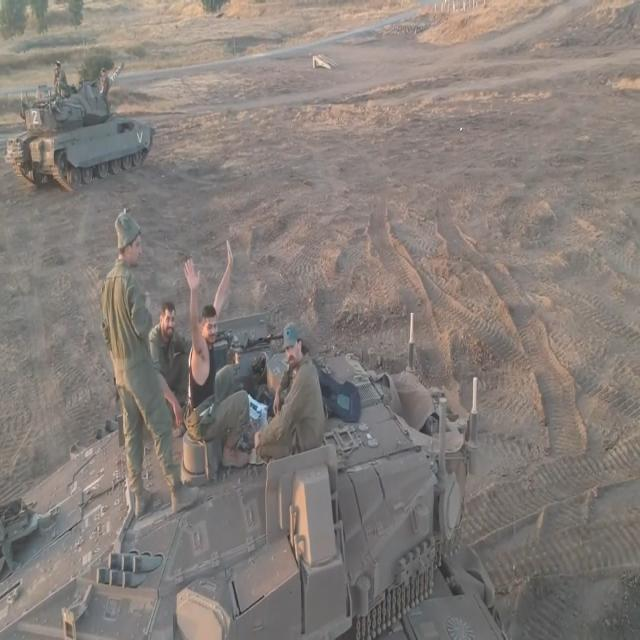tank: (4, 370, 516, 640), (10, 51, 160, 178)
